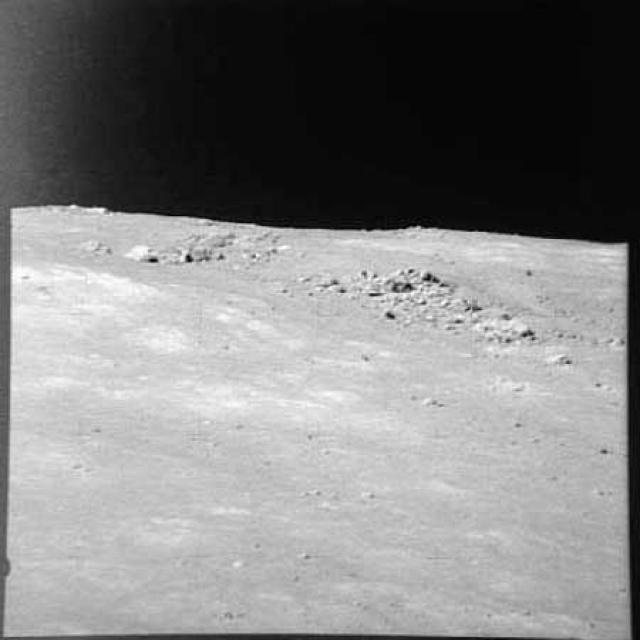rock: (358, 262, 448, 298), (466, 314, 539, 344), (302, 265, 344, 296), (69, 233, 112, 261), (122, 242, 161, 272), (534, 346, 576, 369), (443, 295, 478, 315)
